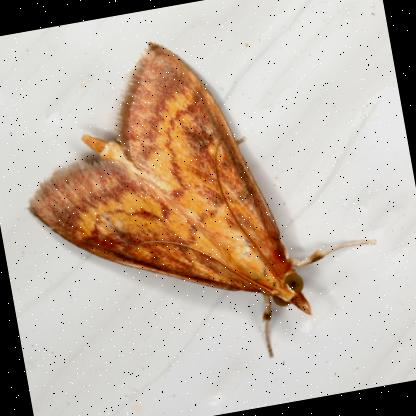Asian Corn Borer Moth: (0, 6, 396, 399)
